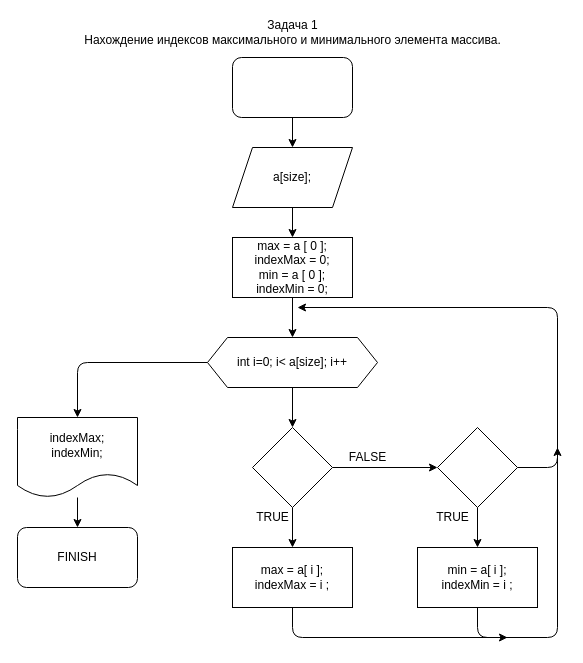
Some shapes in this 583 by 663 pixel diagram are drawn without their labels. Here are the shapes that lost their labels. From the top down, the centre of each, then its label:
pixel 292 87: START
pixel 292 467: max<a[ i ]
pixel 477 467: min>a[ i ]
